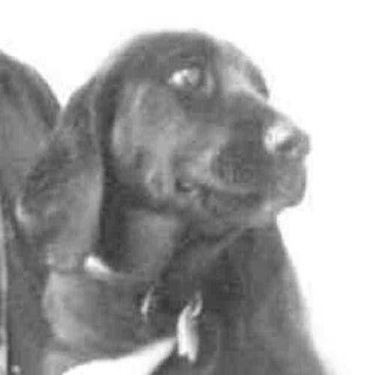dog: (1, 29, 331, 371)
